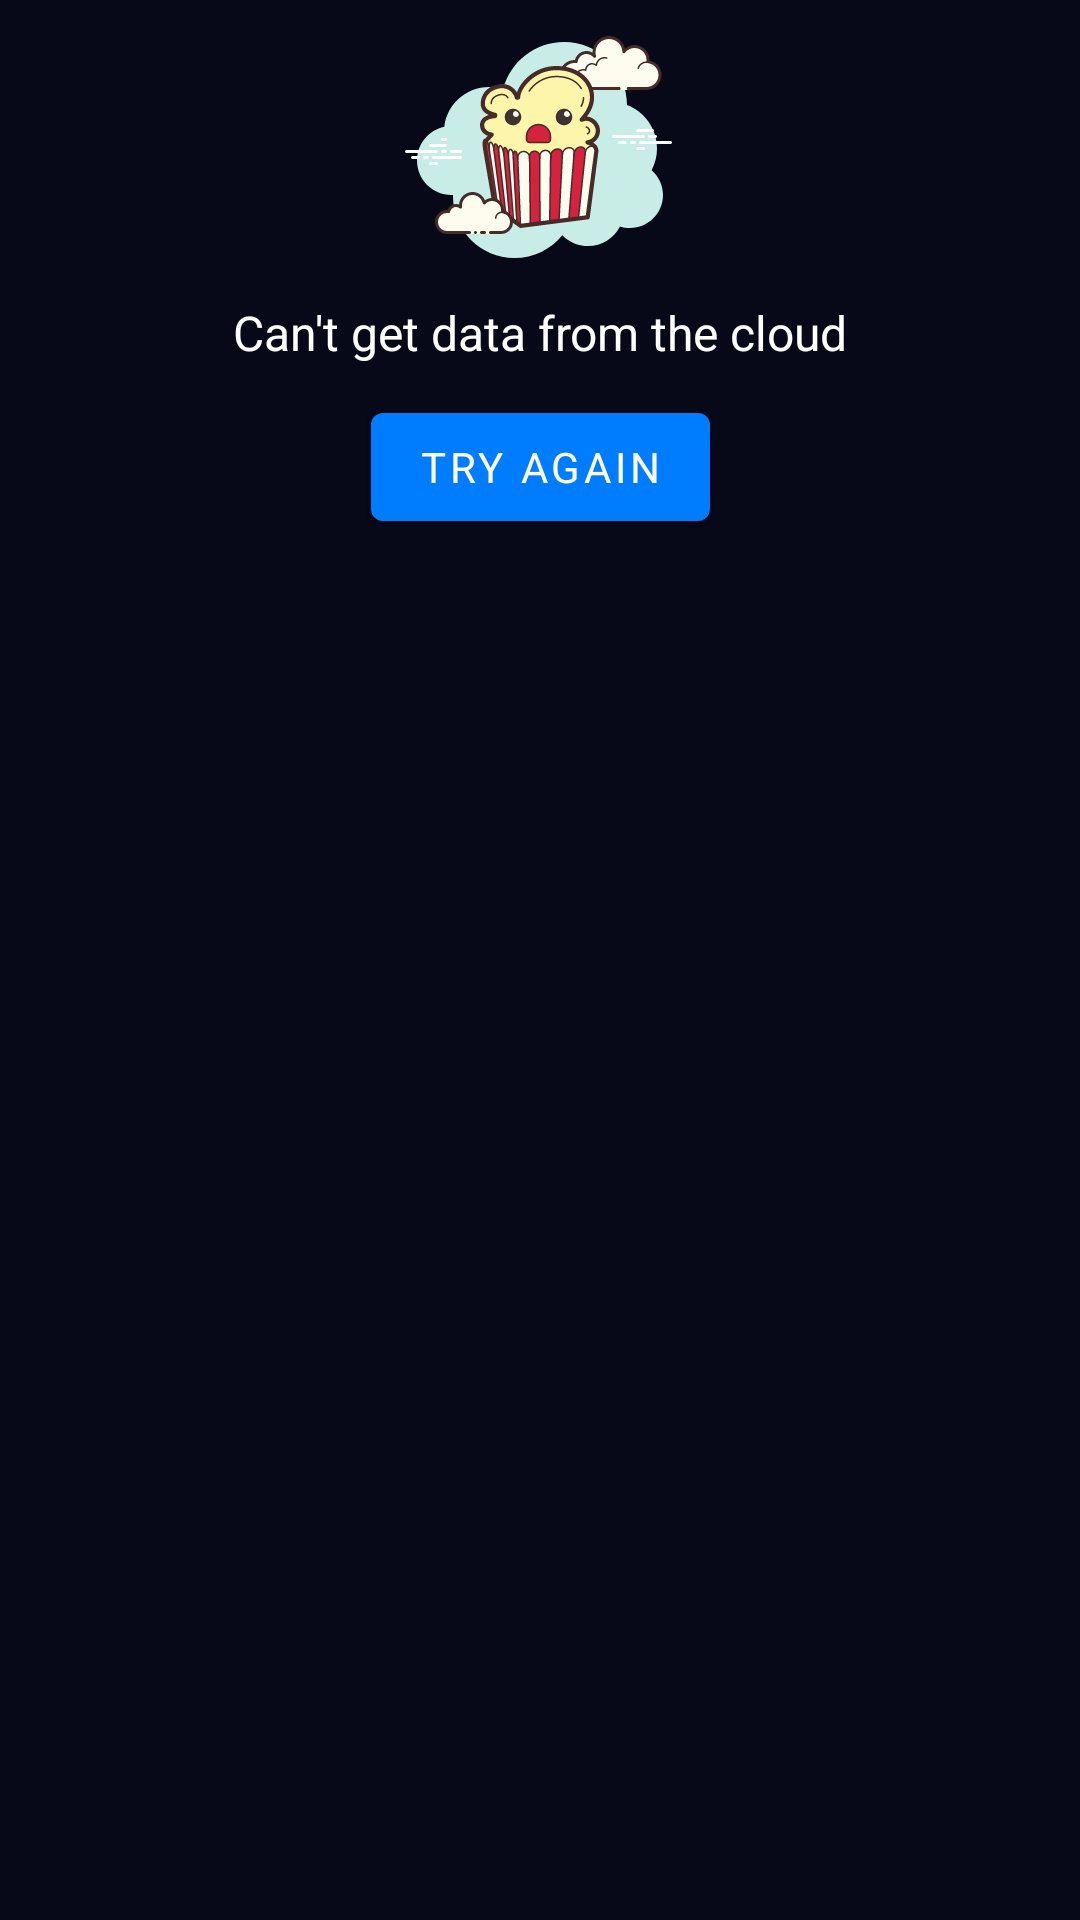

Point at icon controls on the screen. Image size 1080*1920, points as (x=x, y=y).
sad popcorn: (x=538, y=147)
